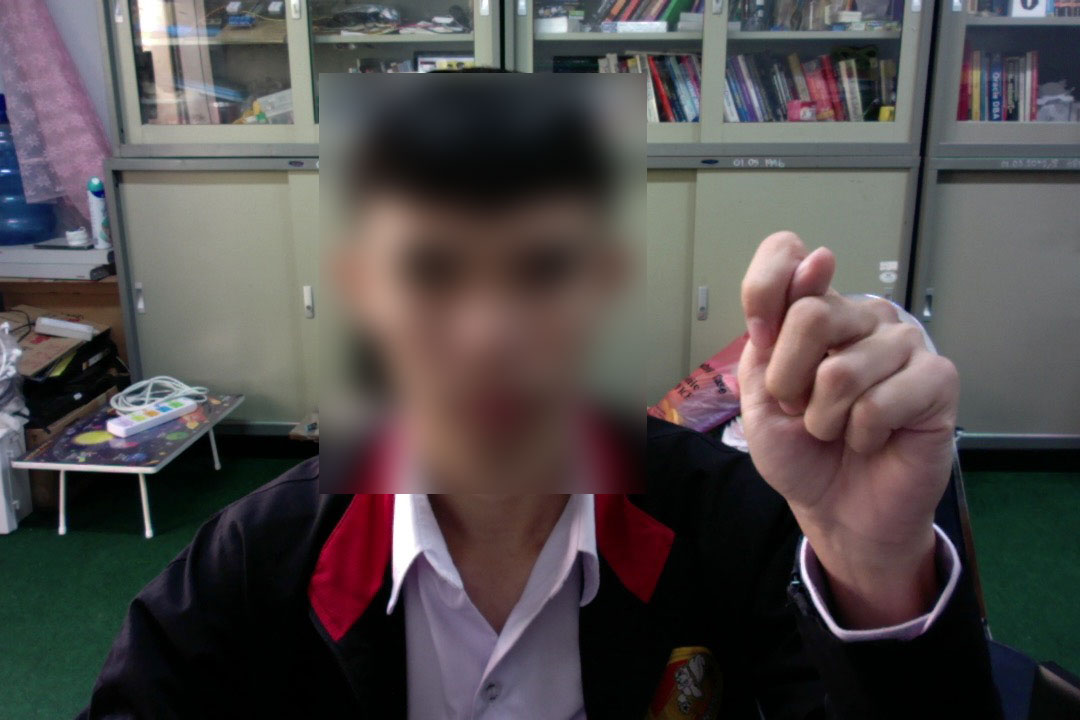tor: (730, 226, 968, 567)
